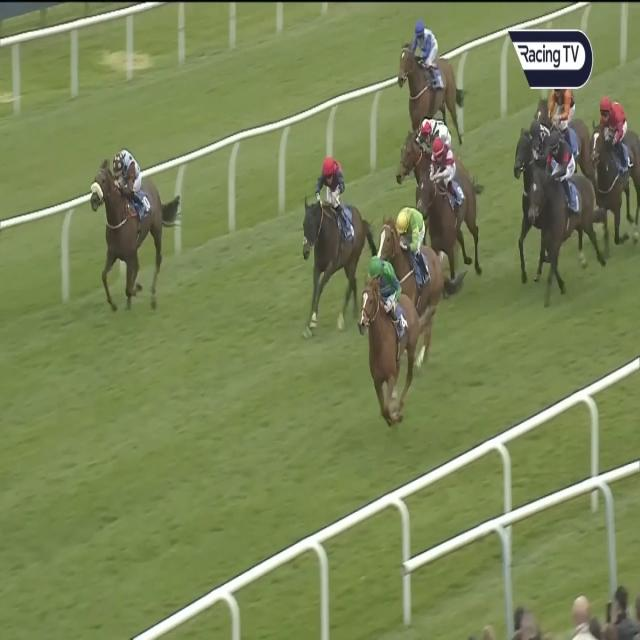horses-racing: (88, 142, 174, 305), (303, 149, 366, 335), (358, 255, 424, 418), (379, 198, 449, 318), (528, 123, 577, 289), (422, 137, 486, 260), (591, 92, 640, 234), (400, 16, 461, 120), (513, 110, 550, 215), (393, 118, 458, 172), (543, 77, 587, 135)
